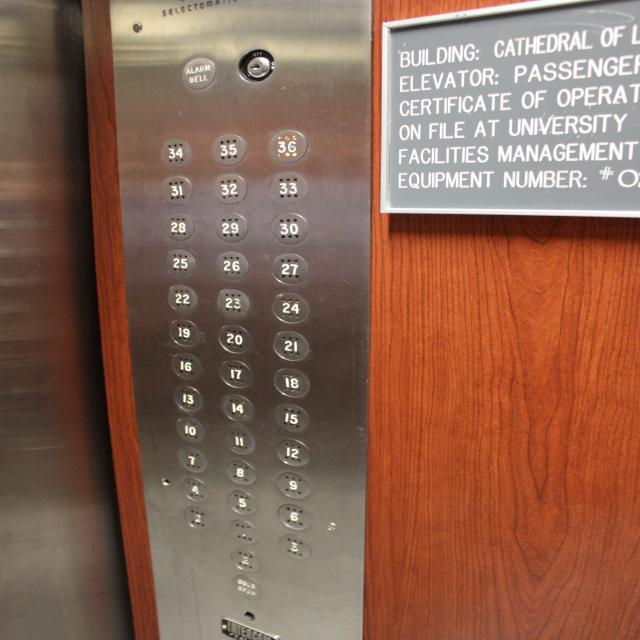10: (173, 413, 207, 444)
11: (220, 426, 256, 456)
12: (273, 436, 312, 468)
13: (172, 384, 204, 414)
14: (218, 391, 255, 425)
15: (272, 403, 311, 434)
16: (170, 351, 202, 380)
17: (218, 357, 254, 390)
18: (272, 366, 311, 400)
19: (167, 318, 200, 348)
20: (216, 323, 252, 354)
21: (271, 329, 310, 362)
22: (165, 283, 198, 314)
23: (215, 285, 251, 319)
24: (270, 291, 310, 324)
25: (163, 247, 196, 278)
26: (213, 248, 250, 282)
27: (270, 252, 310, 286)
28: (162, 212, 195, 240)
29: (212, 210, 250, 244)
3: (276, 532, 313, 562)
30: (270, 211, 310, 246)
31: (159, 174, 194, 205)
32: (212, 172, 248, 206)
33: (268, 170, 308, 206)
34: (158, 137, 193, 168)
35: (211, 134, 245, 164)
36: (268, 129, 308, 162)
4: (180, 475, 212, 503)
5: (225, 488, 258, 517)
6: (276, 501, 312, 531)
7: (175, 445, 208, 473)
8: (223, 456, 258, 486)
9: (274, 469, 311, 499)
blur: (181, 502, 213, 531), (228, 546, 260, 574)
empty: (227, 517, 259, 545)
keyhole: (235, 48, 276, 85)
text_alarm: (180, 56, 218, 92)
text_door open: (230, 572, 262, 602)
